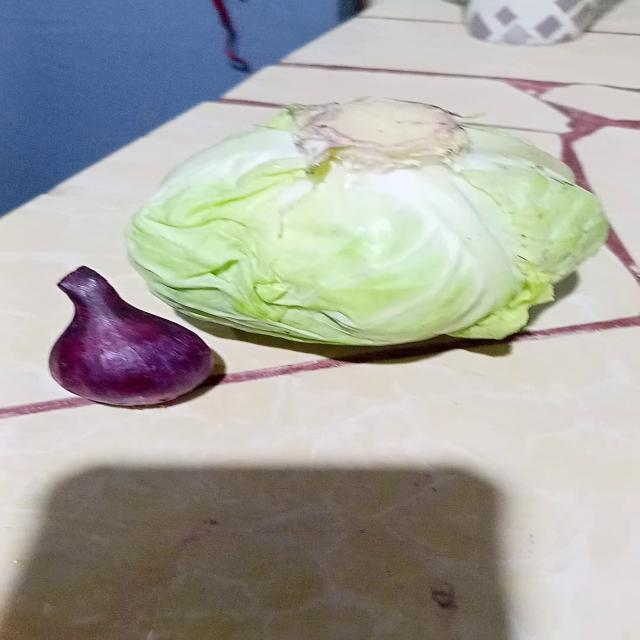cabbage: (126, 96, 610, 359)
onion: (48, 267, 230, 412)
